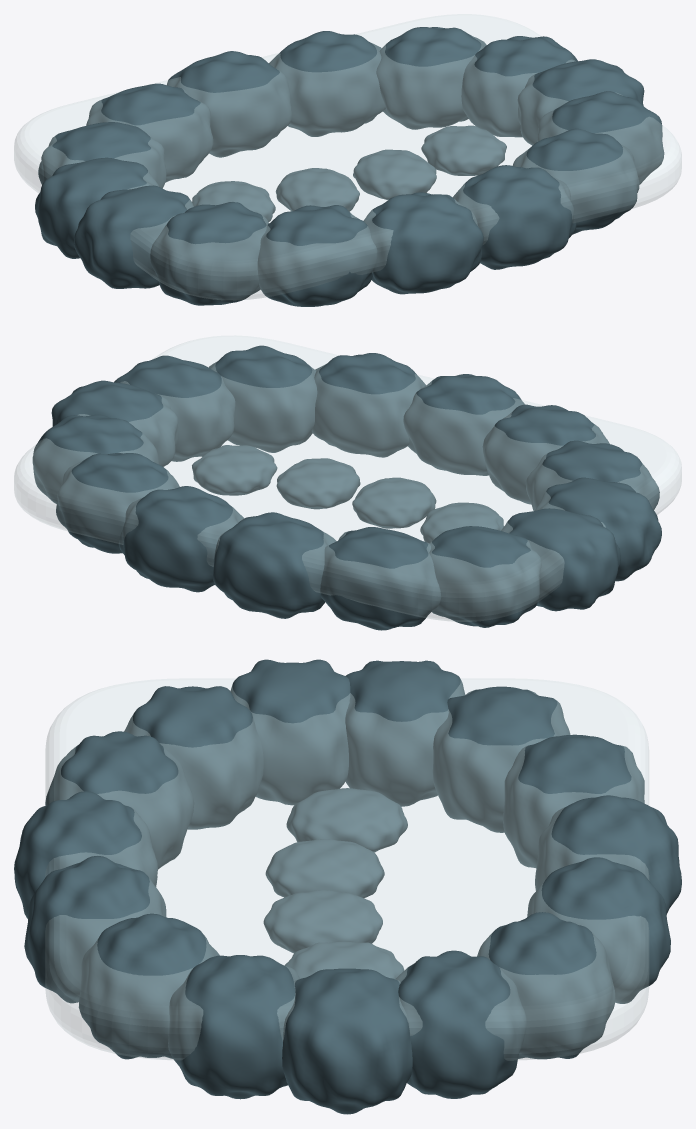
3 renders of one model, top to bottom at view 1: azimuth 30°, elevation 25°; view 2: azimuth 150°, elevation 25°; view 3: azimuth 270°, elevation 25°, orthographic. The views are drawn at different scales.
Visible parts, largest first — view 1: environment-water, stone-13, stone-14, stone-12, stone-11, stone-20, stone-19, stone-21, stone-15, stone-10, stone-22, stone-18 (+8 smaller); view 2: environment-water, stone-18, stone-19, stone-17, stone-20, stone-11, stone-10, stone-12, stone-16, stone-21, stone-9, stone-13 (+8 smaller); view 3: environment-water, stone-8, stone-9, stone-22, stone-21, stone-10, stone-15, stone-16, stone-17, stone-14, stone-20, stone-11 (+8 smaller).
Part boxes in pixels (x1,y1,x2,y2): environment-water: [14, 14, 681, 300]; stone-13: [257, 205, 377, 306]; stone-14: [150, 202, 268, 305]; stone-12: [363, 192, 483, 294]; stone-11: [452, 165, 576, 269]; stone-20: [269, 31, 385, 136]; stone-19: [167, 51, 291, 157]; stone-21: [376, 27, 486, 129]; stone-15: [74, 185, 193, 288]; stone-10: [512, 128, 639, 234]; stone-22: [461, 36, 577, 137]; stone-18: [86, 83, 213, 182]; environment-water: [14, 335, 681, 621]; stone-18: [320, 527, 441, 630]; stone-19: [213, 512, 336, 618]; stone-17: [429, 526, 541, 627]; stone-20: [118, 486, 243, 592]; stone-11: [311, 353, 425, 457]; stone-10: [209, 345, 317, 452]; stone-12: [403, 374, 524, 475]; stone-16: [501, 508, 620, 611]; stone-21: [56, 453, 179, 553]; stone-9: [114, 355, 235, 461]; stone-13: [482, 404, 609, 504]; environment-water: [45, 678, 648, 1060]; stone-8: [282, 968, 412, 1114]; stone-9: [168, 955, 299, 1099]; stone-22: [396, 950, 526, 1098]; stone-21: [477, 912, 615, 1059]; stone-10: [78, 913, 219, 1059]; stone-15: [230, 659, 350, 805]; stone-16: [345, 660, 465, 806]; stone-17: [432, 686, 570, 832]; stone-14: [124, 686, 263, 829]; stone-20: [527, 857, 670, 1003]; stone-11: [24, 856, 166, 1003].
Bounding box in the file's own units: 3.45 × 0.5161 × 2.54.
